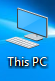pc: (3, 5, 51, 74)
